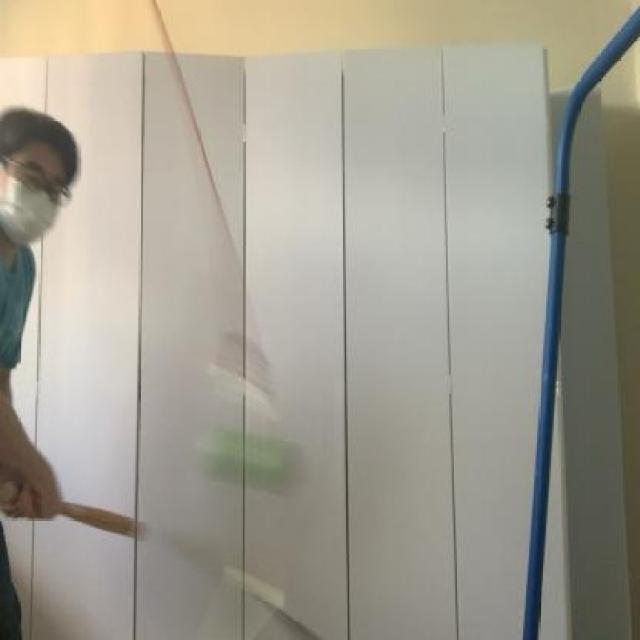baseball: (196, 416, 318, 498)
